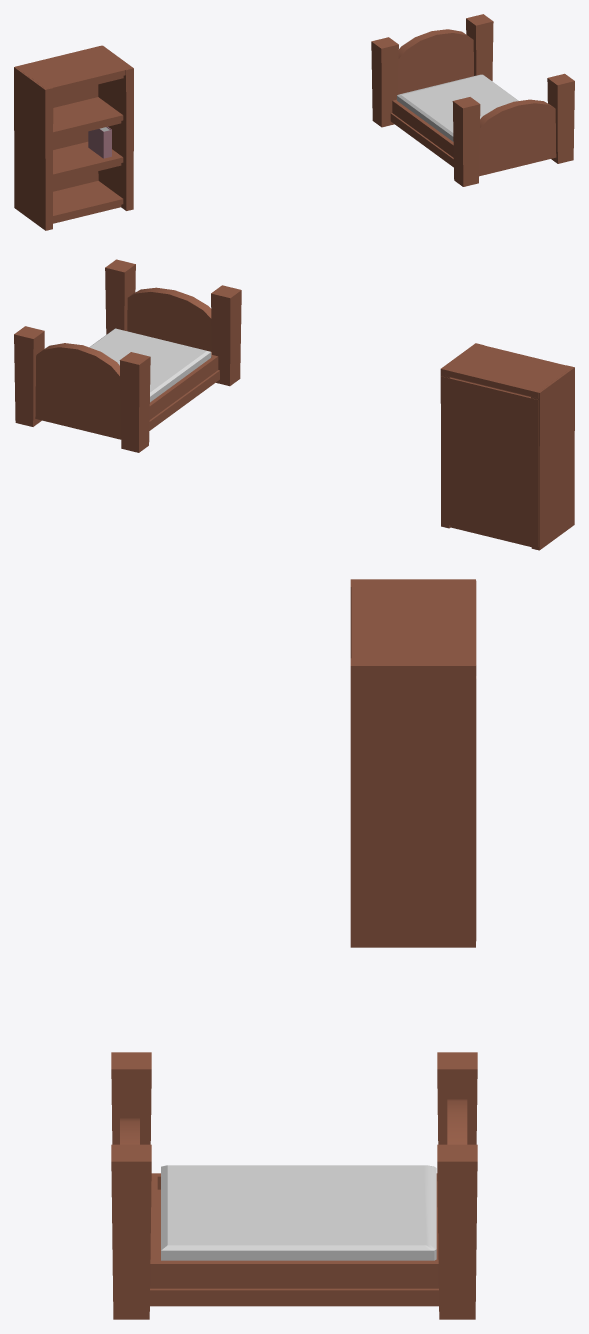
The model's file is Kims room.fbx.
3 views of the same model, one above another, from view 1: azimuth 30°, elevation 25°; view 2: azimuth 150°, elevation 25°; view 3: azimuth 270°, elevation 25° (orthographic). The views are drawn at different scales.
Visible parts, largest first — view 1: polySurface5, pCube17, pCube27; view 2: polySurface5, pCube17; view 3: polySurface5, pCube17.
Boxes of the visible parts, x1=… form: polySurface5: x1=371, y1=14, x2=574, y2=186; pCube17: x1=14, y1=45, x2=133, y2=230; pCube27: x1=88, y1=126, x2=111, y2=158; polySurface5: x1=14, y1=259, x2=241, y2=452; pCube17: x1=440, y1=343, x2=574, y2=550; polySurface5: x1=111, y1=1052, x2=477, y2=1319; pCube17: x1=350, y1=579, x2=476, y2=947.
Size of the model in its own units: 20.49 by 5.89 by 6.92.
